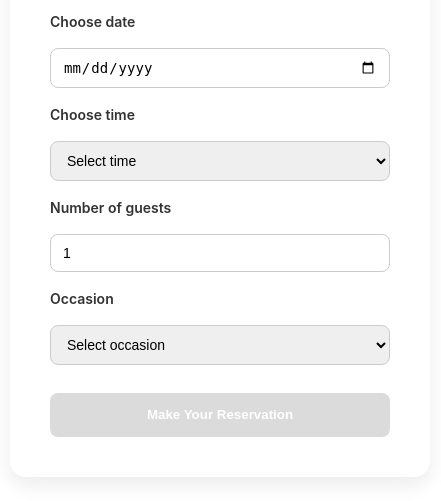
it: submit button enabled when form valid
This screenshot has width=441, height=501.
In the date field labelled "Choose date": (220, 68) x1=50 y1=48 x2=390 y2=88, type "2026-12-25"
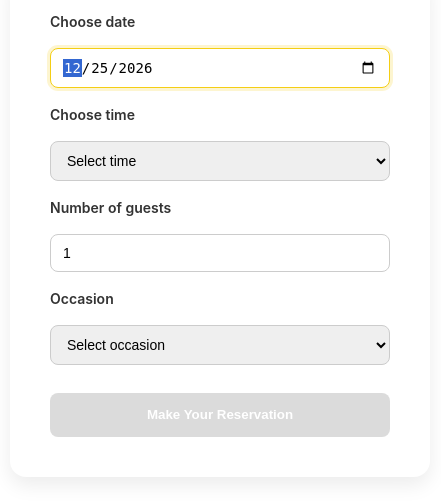
Select "17:00" in the dropdown labelled "Choose time": (220, 161) x1=50 y1=141 x2=390 y2=181
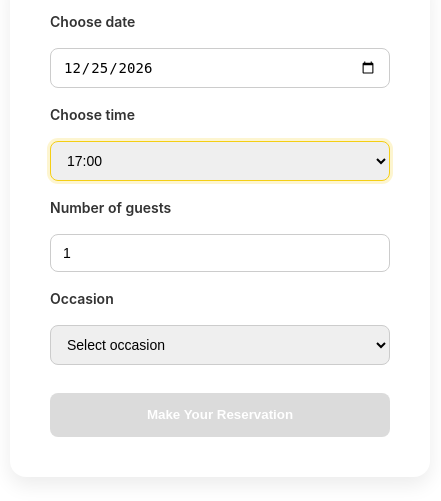
Replace the text in the number field labelled "Number of guests" with "2": (220, 253) x1=50 y1=234 x2=390 y2=272
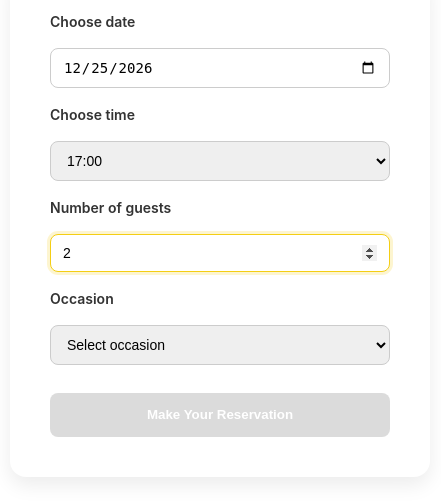
Select "Birthday" in the dropdown labelled "Occasion": (220, 345) x1=50 y1=325 x2=390 y2=365
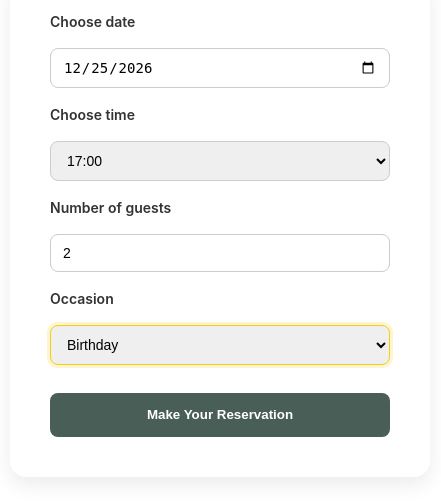
Now the button "Make Your Reservation" is enabled, box x1=50 y1=393 x2=390 y2=437
